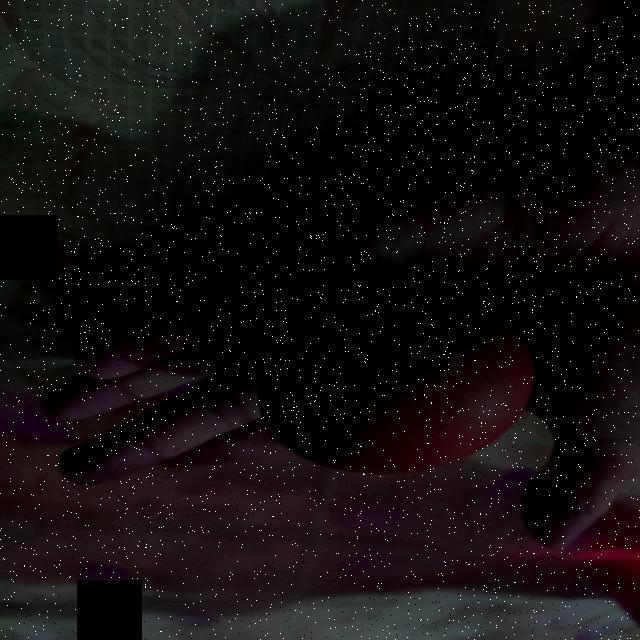egg: (254, 282, 536, 478)
